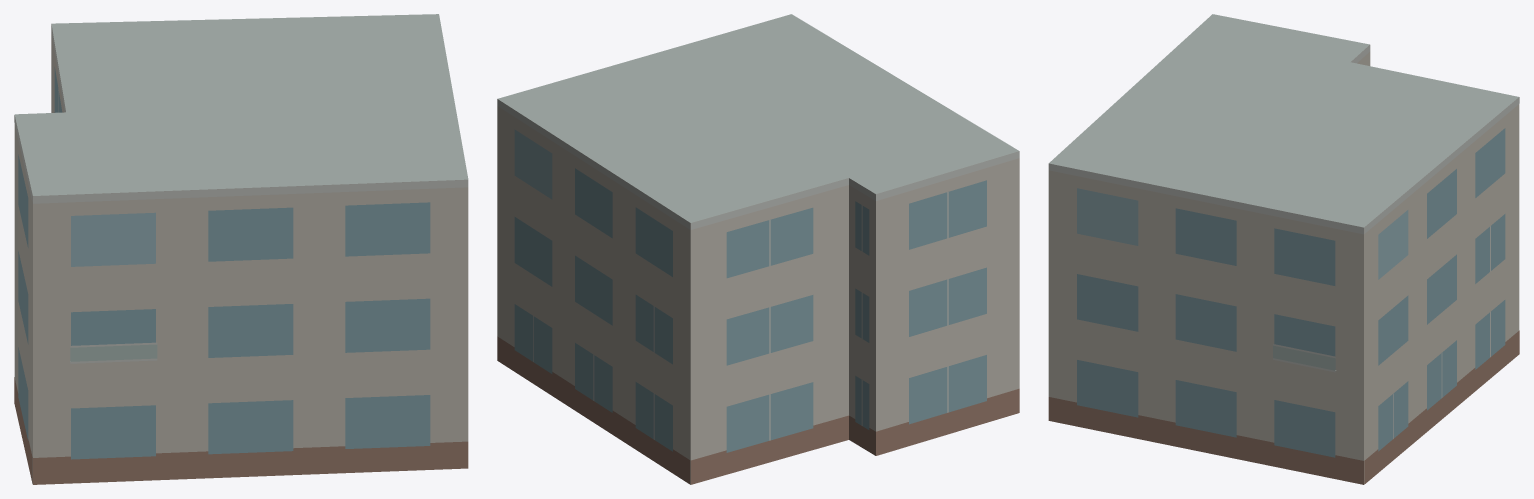
The model's file is survey-upis-32971561.glb.
3 views of the same model, side by side, from view 1: azimuth 30°, elevation 25°; view 2: azimuth 150°, elevation 25°; view 3: azimuth 270°, elevation 25° (orthographic). The views are drawn at different scales.
Visible parts, largest first — view 1: survey-upis-32971561.tmp; view 2: survey-upis-32971561.tmp; view 3: survey-upis-32971561.tmp.
Boxes of the visible parts, x1,y1,x2,y2 form: survey-upis-32971561.tmp: (14, 14, 468, 484); survey-upis-32971561.tmp: (497, 14, 1019, 484); survey-upis-32971561.tmp: (1048, 14, 1519, 484).
Bounding box in the file's own units: 16.3 × 9.15 × 15.18.
